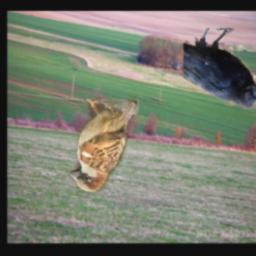Crow: (184, 28, 256, 110)
Sparrow: (68, 99, 140, 192)
